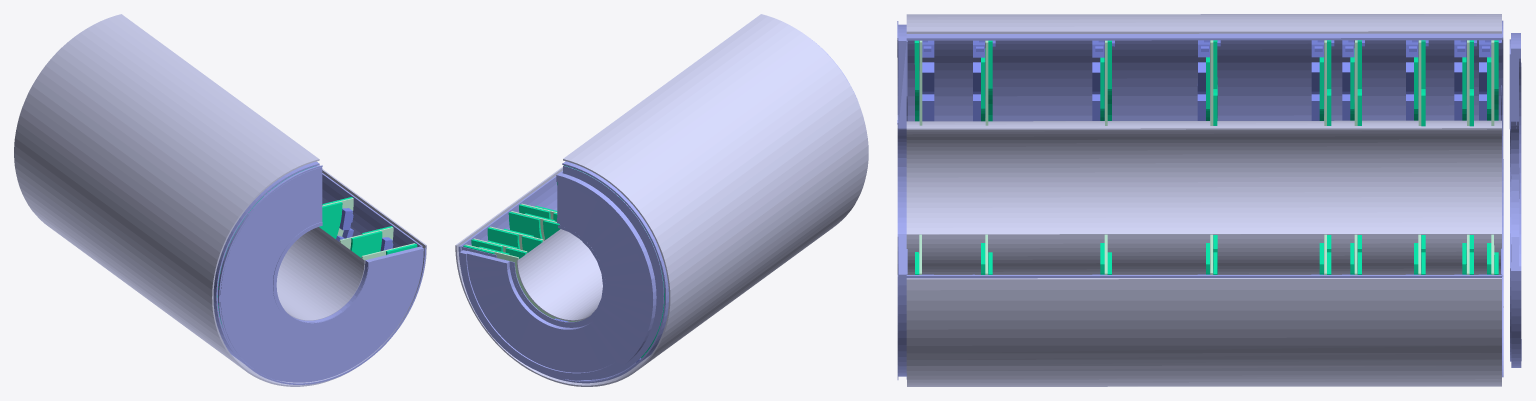
The model's file is SCT-SideA-cut3-transformed.glb.
3 views of the same model, side by side, from view 1: azimuth 30°, elevation 25°; view 2: azimuth 150°, elevation 25°; view 3: azimuth 270°, elevation 25° (orthographic). The views are drawn at different scales.
Parts seen in each view (by area): view 1: null; view 2: null; view 3: null.
Part boxes in pixels (x1,y1,x2,y2): null: (14,14,426,386); null: (455,14,868,386); null: (897,14,1521,386).
Bounding box in the file's own units: 1.22 × 1.22 × 2.04.
